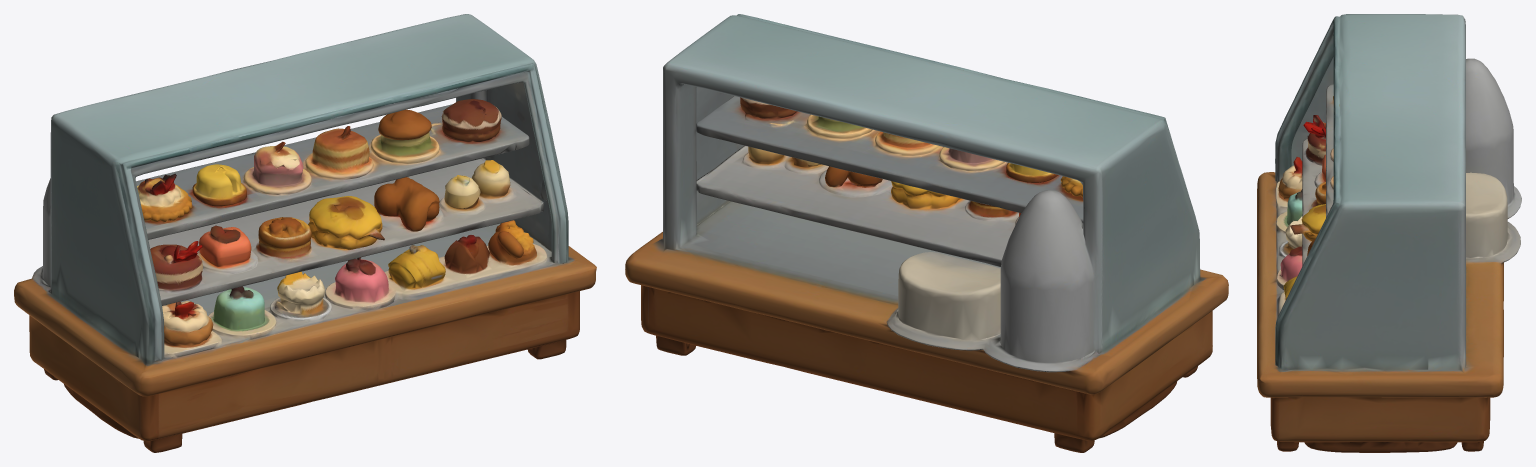
The model's file is padaria_vitrine.glb.
3 views of the same model, side by side, from view 1: azimuth 30°, elevation 25°; view 2: azimuth 150°, elevation 25°; view 3: azimuth 270°, elevation 25° (orthographic). The views are drawn at different scales.
Parts seen in each view (by area): view 1: tripo_node_5e2e9800-aee1-4d59-8861-8079dacfc7da; view 2: tripo_node_5e2e9800-aee1-4d59-8861-8079dacfc7da; view 3: tripo_node_5e2e9800-aee1-4d59-8861-8079dacfc7da.
Part boxes in pixels (x1=…): tripo_node_5e2e9800-aee1-4d59-8861-8079dacfc7da: x1=14, y1=14, x2=596, y2=452; tripo_node_5e2e9800-aee1-4d59-8861-8079dacfc7da: x1=625, y1=14, x2=1228, y2=452; tripo_node_5e2e9800-aee1-4d59-8861-8079dacfc7da: x1=1257, y1=14, x2=1521, y2=452.
Size of the model in its own units: 0.9792 by 0.5509 by 0.5238.
1 material, 1 textured.
